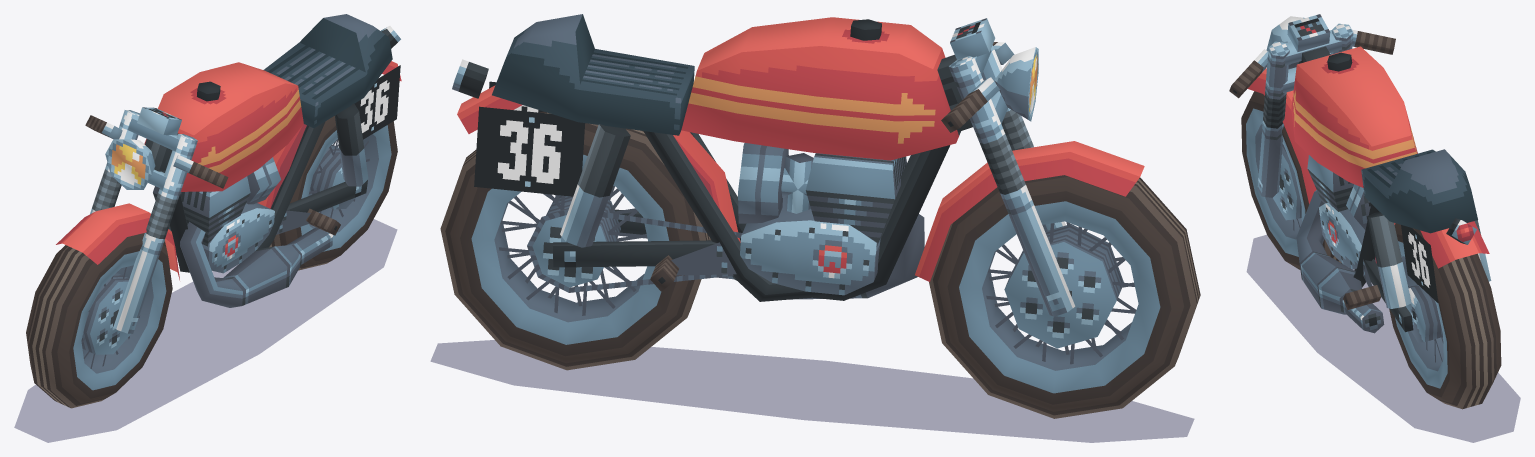
Rendered from Vintage_Racing_Motorcycle.glb.
3 renders of one model, left to right at view 1: azimuth 30°, elevation 25°; view 2: azimuth 150°, elevation 25°; view 3: azimuth 270°, elevation 25°, orthographic. The views are drawn at different scales.
Visible parts, largest first — view 1: Bike_0, Shadow_0; view 2: Bike_0, Shadow_0; view 3: Bike_0, Shadow_0.
Part boxes in pixels (bbox=[...]): Bike_0: bbox=[26, 14, 401, 408]; Shadow_0: bbox=[14, 219, 397, 442]; Bike_0: bbox=[440, 14, 1200, 418]; Shadow_0: bbox=[430, 340, 1194, 442]; Bike_0: bbox=[1229, 14, 1501, 409]; Shadow_0: bbox=[1246, 234, 1520, 442].
Bounding box in the file's own units: 196 × 112 × 103.
Materials: 2 (1 with a texture image).
